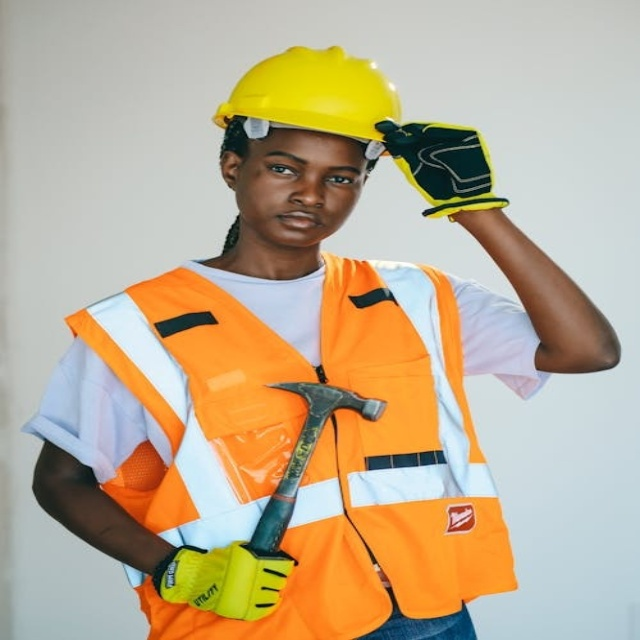Guantes: (375, 118, 508, 218), (155, 541, 292, 622)
Sin_gafas: (251, 146, 369, 193)
Sin_mascara: (261, 206, 332, 243)
